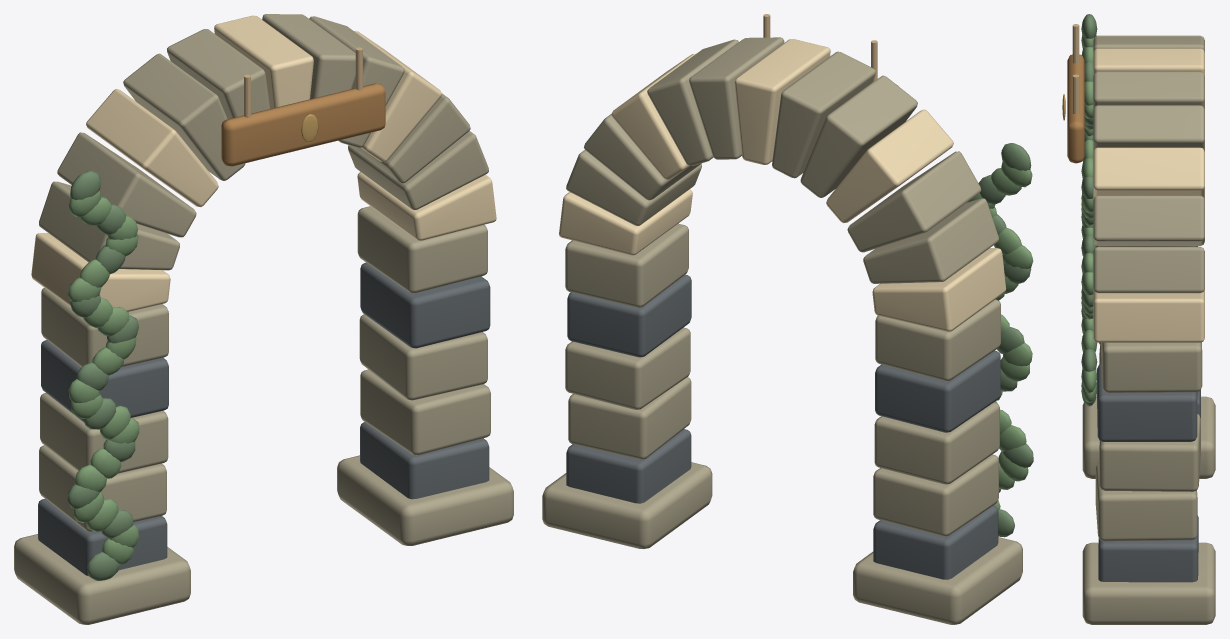
The model's file is departure_arch.glb.
3 views of the same model, side by side, from view 1: azimuth 30°, elevation 25°; view 2: azimuth 150°, elevation 25°; view 3: azimuth 270°, elevation 25° (orthographic). The views are drawn at different scales.
Visible parts, largest first — view 1: Stone footing, Radial carved voussoir, Weathered pillar block, Climbing ivy.001, Hanging trail sign, Climbing ivy; view 2: Stone footing, Radial carved voussoir, Weathered pillar block, Climbing ivy.001, Climbing ivy; view 3: Stone footing, Radial carved voussoir, Weathered pillar block, Climbing ivy.001, Climbing ivy, Hanging trail sign, Rope sign hanger.
Boxes of the visible parts, x1=… form: Stone footing: x1=14, y1=14, x2=513, y2=624; Radial carved voussoir: x1=31, y1=15, x2=496, y2=311; Weathered pillar block: x1=38, y1=262, x2=490, y2=575; Climbing ivy.001: x1=68, y1=190, x2=139, y2=564; Hanging trail sign: x1=221, y1=83, x2=385, y2=166; Climbing ivy: x1=67, y1=171, x2=138, y2=580; Stone footing: x1=542, y1=37, x2=1022, y2=624; Radial carved voussoir: x1=559, y1=39, x2=1006, y2=331; Weathered pillar block: x1=566, y1=274, x2=1000, y2=579; Climbing ivy.001: x1=967, y1=161, x2=1033, y2=510; Climbing ivy: x1=978, y1=143, x2=1033, y2=537; Stone footing: x1=1082, y1=35, x2=1215, y2=624; Radial carved voussoir: x1=1093, y1=48, x2=1204, y2=342; Weathered pillar block: x1=1096, y1=246, x2=1200, y2=582; Climbing ivy.001: x1=1081, y1=35, x2=1097, y2=402; Climbing ivy: x1=1081, y1=14, x2=1097, y2=406; Hanging trail sign: x1=1067, y1=54, x2=1084, y2=163; Rope sign hanger: x1=1072, y1=24, x2=1079, y2=113.
Size of the model in its own units: 3.6 by 3.98 by 1.15.
